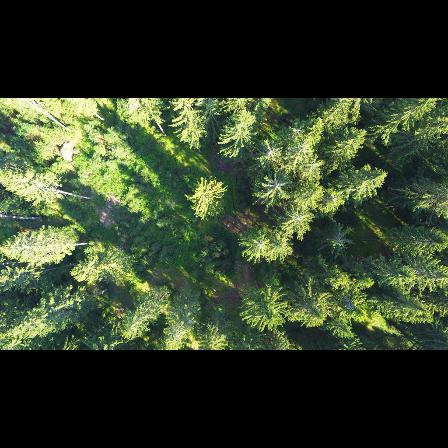Sick: (322, 223, 355, 257), (258, 173, 291, 203), (286, 135, 314, 169), (247, 228, 272, 259), (318, 189, 345, 215), (287, 205, 311, 234), (258, 138, 283, 165)
